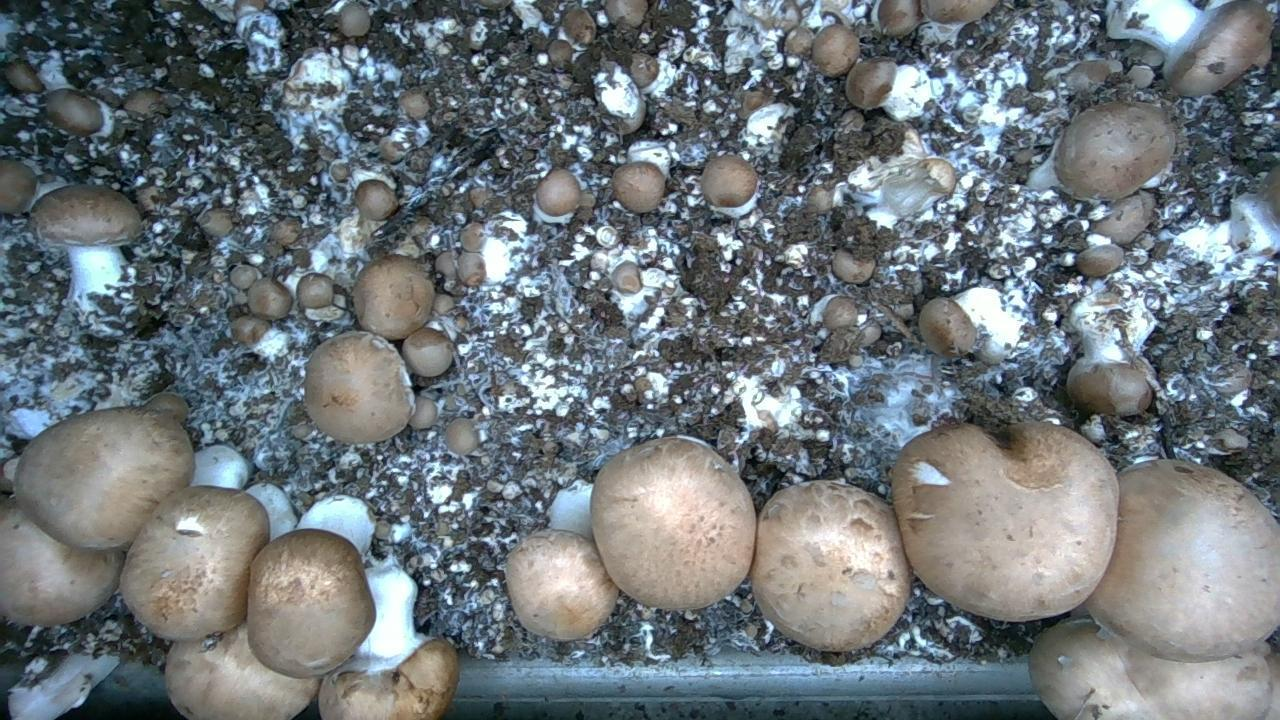BB: (892, 422, 1118, 620), (1086, 460, 1279, 661), (591, 436, 755, 609), (750, 481, 910, 650), (15, 408, 193, 548), (1029, 620, 1271, 719), (119, 486, 269, 640), (247, 529, 374, 677), (0, 499, 123, 625), (165, 623, 320, 719), (506, 529, 618, 639), (305, 331, 414, 442), (1054, 102, 1174, 200), (318, 638, 459, 719), (1166, 0, 1275, 94), (352, 254, 434, 339), (30, 185, 142, 246), (1067, 358, 1152, 415), (919, 297, 975, 358), (1092, 192, 1154, 244), (701, 155, 757, 206), (612, 161, 664, 212), (845, 57, 896, 109), (46, 89, 102, 135), (402, 327, 453, 376), (811, 25, 859, 76), (536, 169, 580, 215), (0, 159, 36, 213), (248, 278, 292, 319), (921, 0, 997, 23), (355, 179, 397, 220), (878, 0, 922, 37), (1075, 244, 1123, 277), (832, 249, 874, 284), (144, 392, 188, 423), (297, 273, 333, 308), (231, 315, 270, 346), (446, 418, 479, 454), (562, 8, 595, 44), (605, 0, 647, 27), (5, 62, 43, 91), (338, 3, 370, 37), (611, 262, 642, 293), (409, 396, 437, 429), (198, 209, 232, 236), (458, 252, 485, 286), (399, 89, 429, 118), (461, 222, 484, 251), (1127, 65, 1154, 88)
